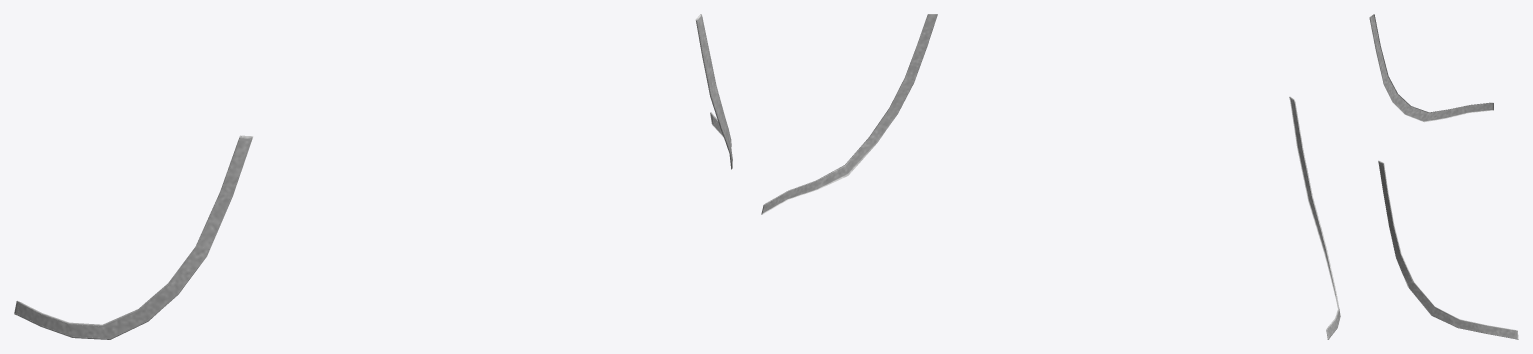
The model's file is Pocket.glb.
3 renders of one model, left to right at view 1: azimuth 30°, elevation 25°; view 2: azimuth 150°, elevation 25°; view 3: azimuth 270°, elevation 25°, orthographic. The views are drawn at different scales.
Visible parts, largest first — view 1: Pocket1, Rope1; view 2: Pocket1; view 3: Pocket1, Rope1.
Part boxes in pixels (x1,y1,x2,y2): Pocket1: [14, 14, 732, 339]; Rope1: [14, 14, 732, 338]; Pocket1: [761, 14, 1340, 339]; Pocket1: [1369, 14, 1518, 339]; Rope1: [1378, 161, 1517, 339].
Size of the model in its own units: 0.5893 by 0.1696 by 0.1609.
2 materials, 2 textured.
